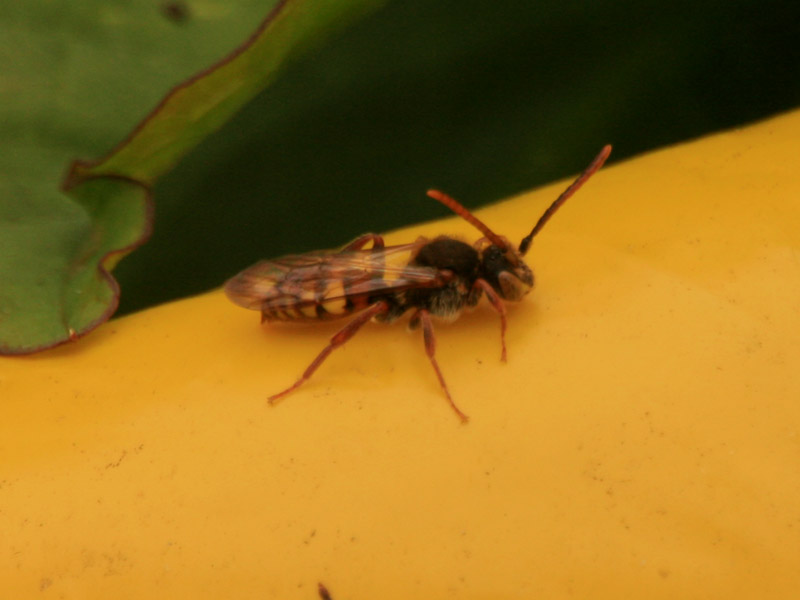green bottles fly: (202, 164, 605, 441)
